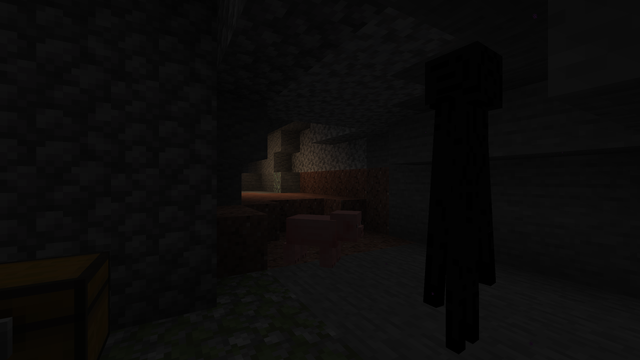cochons: (286, 212, 347, 271)
endermens: (417, 26, 512, 357)
